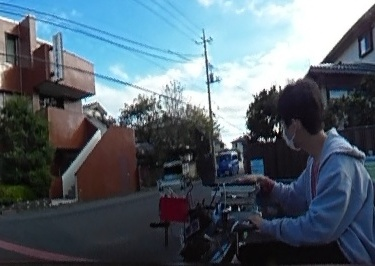person: (232, 78, 375, 266)
